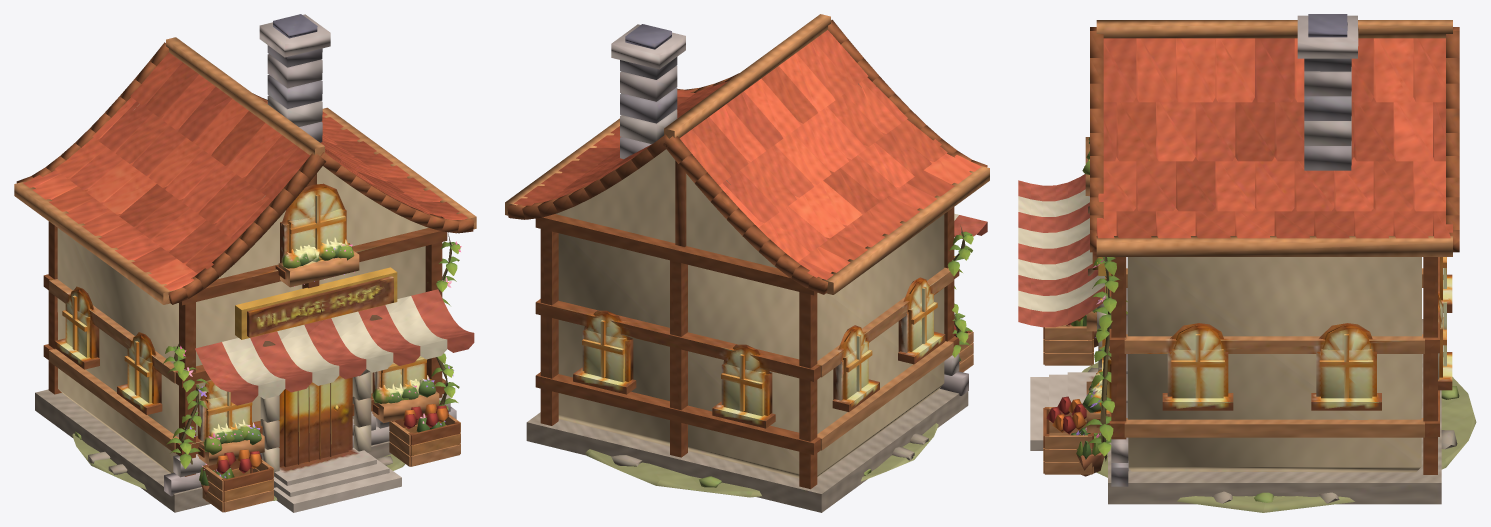
File: bld_shop_orange_v02.glb
3 renders of one model, left to right at view 1: azimuth 30°, elevation 25°; view 2: azimuth 150°, elevation 25°; view 3: azimuth 270°, elevation 25°, orthographic. The views are drawn at different scales.
Visible parts, largest first — view 1: Body; view 2: Body; view 3: Body.
Boxes of the visible parts, x1,y1,x2,y2 form: Body: [14, 14, 476, 512]; Body: [505, 14, 989, 512]; Body: [1018, 14, 1476, 512].
Bounding box in the file's own units: 4.39 × 4.96 × 4.65.
1 material, 1 textured.
